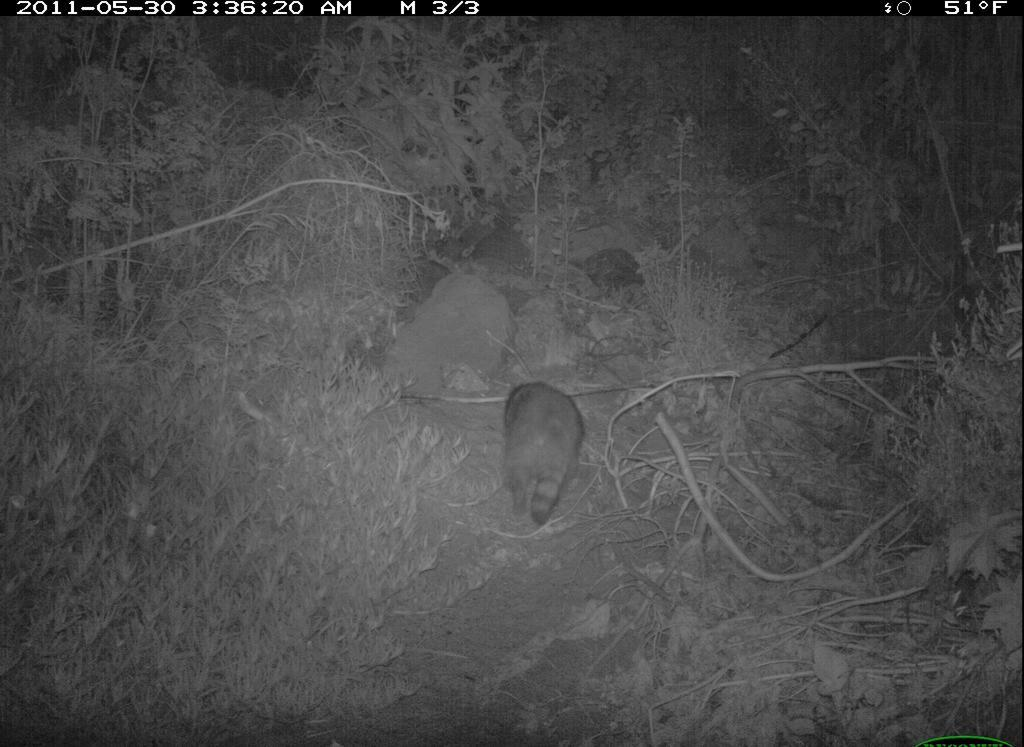raccoon: (479, 372, 600, 539)
